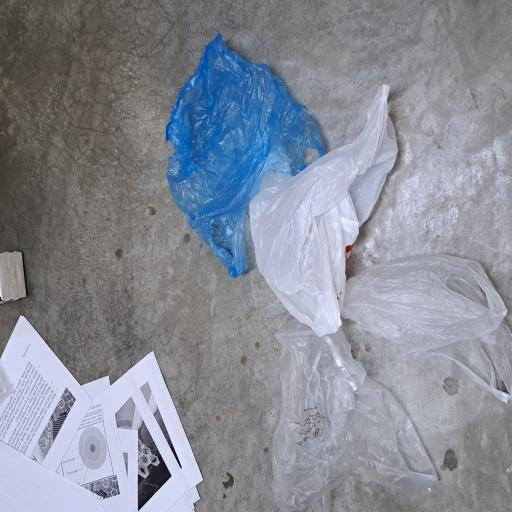paper: (0, 0, 147, 272)
plastic bag: (181, 215, 356, 437), (133, 329, 324, 512), (2, 365, 193, 512)
